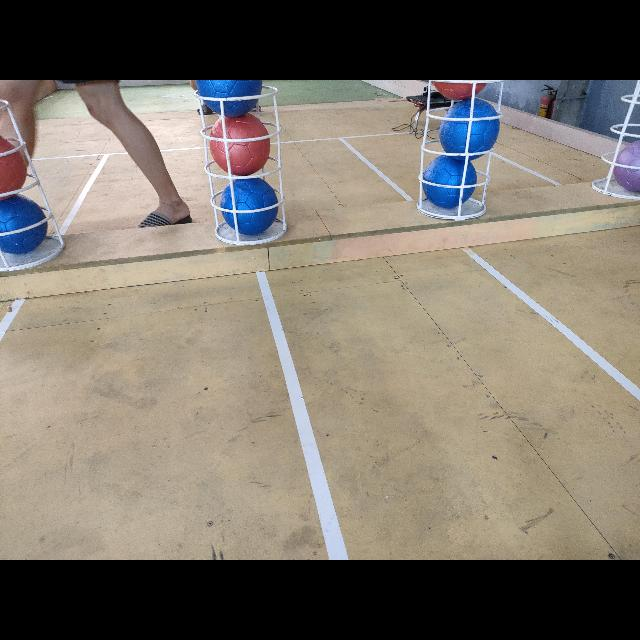B: (439, 98, 498, 160), (221, 178, 279, 235), (420, 153, 476, 210), (0, 196, 48, 254), (196, 80, 264, 118)
R: (210, 112, 270, 176), (0, 135, 28, 199)
